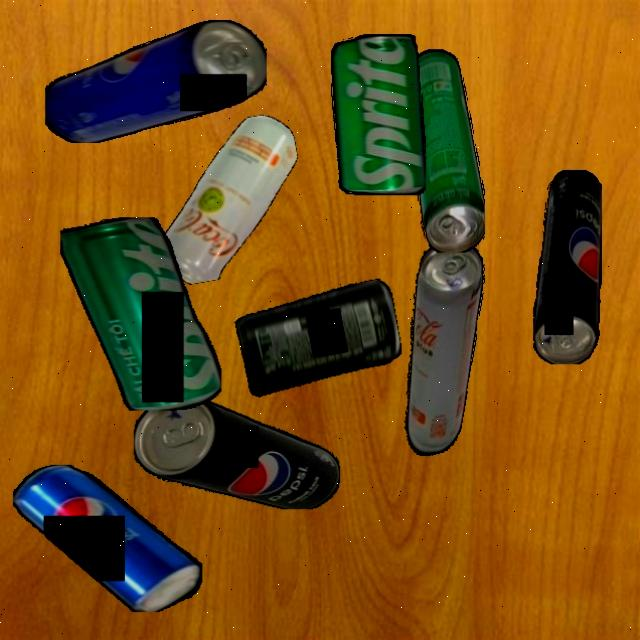debris: (135, 110, 316, 288), (60, 218, 222, 410), (13, 464, 202, 612), (44, 20, 267, 143), (386, 237, 492, 464), (134, 397, 340, 509), (232, 277, 406, 398), (408, 48, 485, 253), (330, 34, 426, 195), (532, 169, 602, 364)
